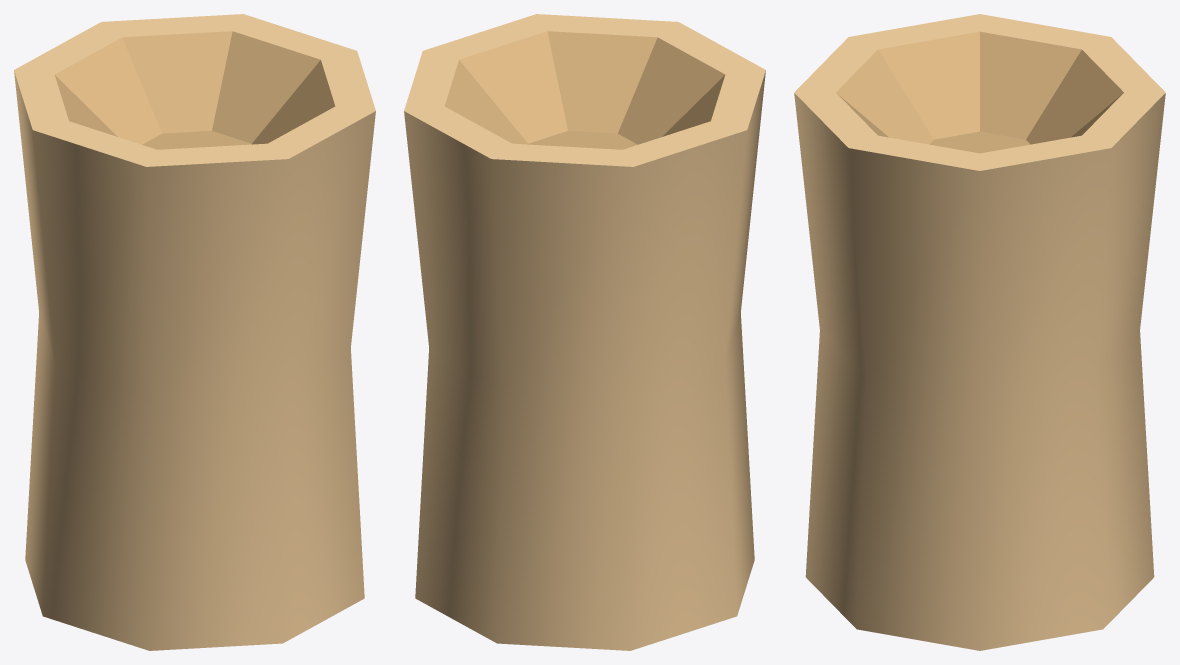
File: Candle1.FBX
The picture shows the model from 3 angles, left to right: view 1: azimuth 30°, elevation 25°; view 2: azimuth 150°, elevation 25°; view 3: azimuth 270°, elevation 25°; orthographic projection.
Parts seen in each view (by area): view 1: Candle1; view 2: Candle1; view 3: Candle1.
Boxes of the visible parts, x1=… form: Candle1: x1=14, y1=14, x2=375, y2=650; Candle1: x1=404, y1=14, x2=765, y2=650; Candle1: x1=794, y1=14, x2=1165, y2=650.
Bounding box in the file's own units: 0.178 × 0.2562 × 0.178.
